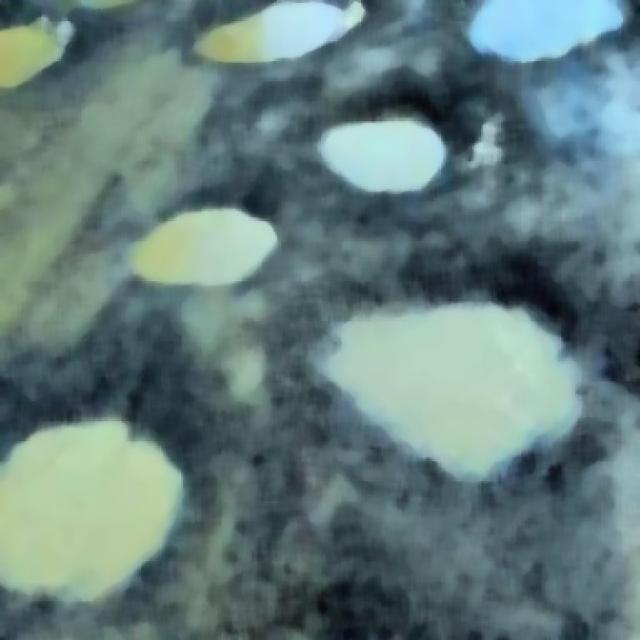Pothole: (335, 279, 593, 463), (1, 372, 181, 631), (317, 100, 458, 208), (133, 177, 261, 285), (192, 0, 374, 63), (474, 0, 638, 68), (0, 14, 74, 81), (61, 0, 192, 29)
